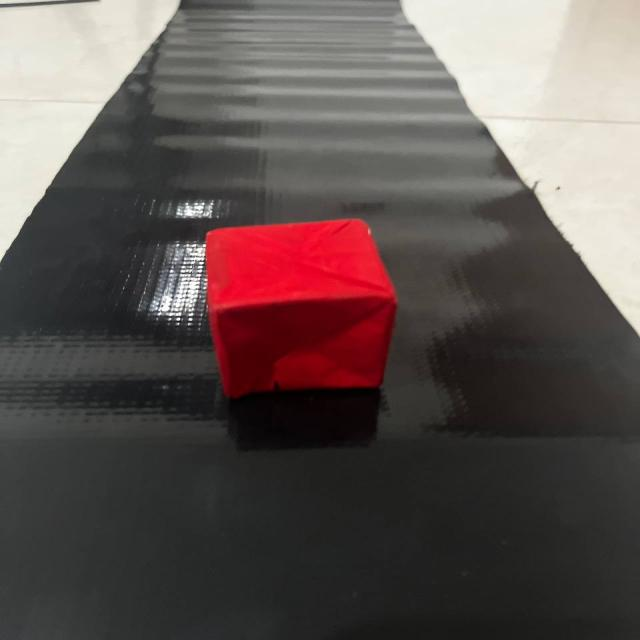Rojo: (185, 207, 417, 409)
